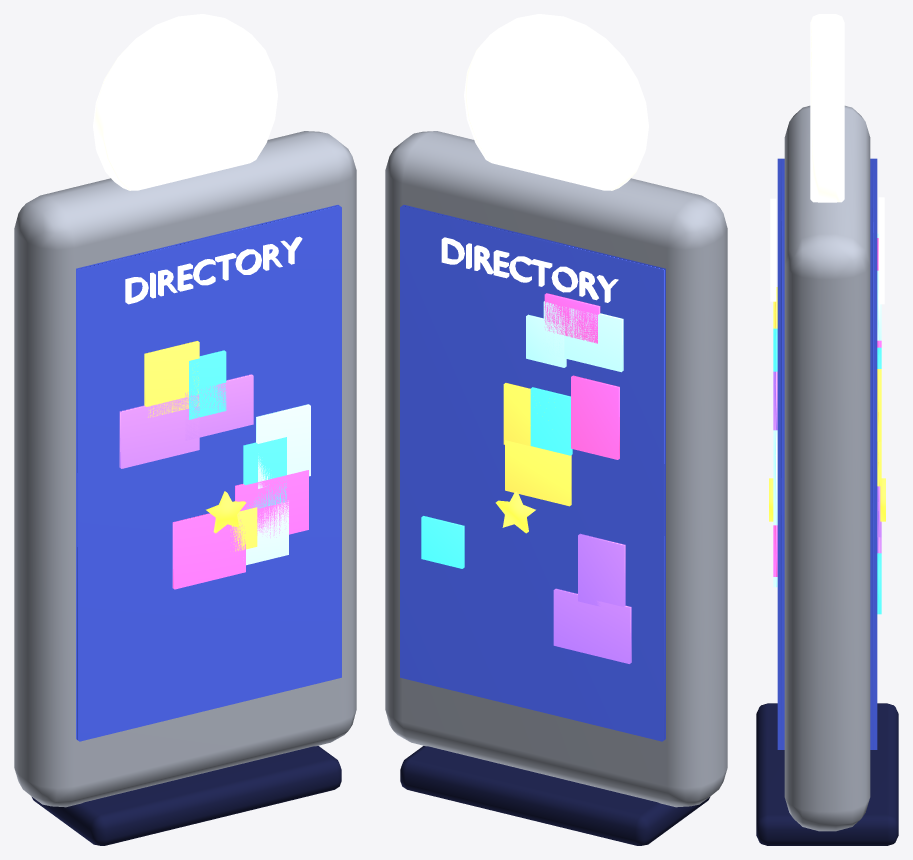
File: mall_directory.glb
3 views of the same model, side by side, from view 1: azimuth 30°, elevation 25°; view 2: azimuth 150°, elevation 25°; view 3: azimuth 270°, elevation 25° (orthographic).
Parts seen in each view (by area): view 1: Directory; view 2: Directory; view 3: Directory.
Part boxes in pixels (x1,y1,x2,y2): Directory: [14, 14, 356, 845]; Directory: [385, 14, 727, 845]; Directory: [756, 14, 898, 845].
Size of the model in its own units: 1.3 by 2.97 by 0.5.
